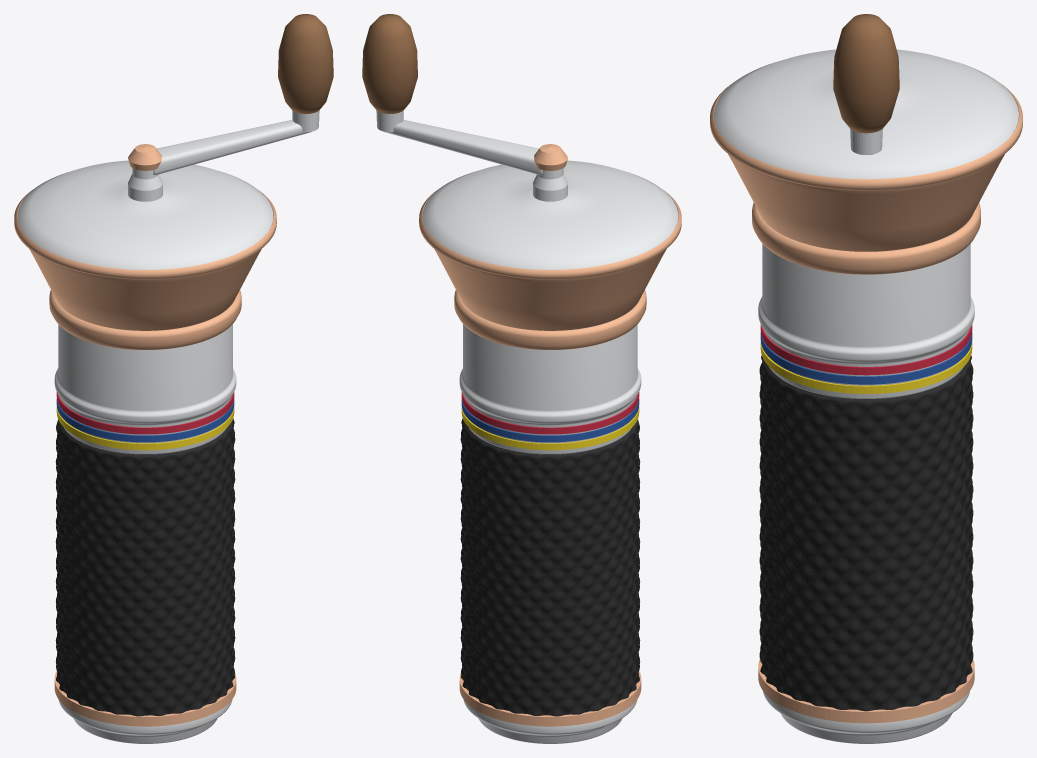
Rendered from grinder.glb.
3 views of the same model, side by side, from view 1: azimuth 30°, elevation 25°; view 2: azimuth 150°, elevation 25°; view 3: azimuth 270°, elevation 25° (orthographic). The views are drawn at different scales.
Parts seen in each view (by area): view 1: grip, lid, housing, hopper, knob, collar, arm, lid_ring, outlet, bottom_ring, band2, band1 (+3 smaller); view 2: grip, lid, housing, hopper, knob, collar, arm, lid_ring, outlet, bottom_ring, band2, band1 (+3 smaller); view 3: grip, lid, housing, hopper, knob, collar, lid_ring, outlet, bottom_ring, band2, band0, band1 (+1 smaller).
Boxes of the visible parts, x1=… form: grip: x1=55, y1=418, x2=235, y2=716; lid: x1=17, y1=160, x2=273, y2=269; housing: x1=54, y1=324, x2=236, y2=454; hopper: x1=29, y1=249, x2=261, y2=330; knob: x1=278, y1=14, x2=333, y2=113; collar: x1=49, y1=290, x2=241, y2=349; arm: x1=153, y1=119, x2=311, y2=175; lid_ring: x1=14, y1=190, x2=276, y2=279; outlet: x1=58, y1=700, x2=232, y2=743; bottom_ring: x1=54, y1=671, x2=236, y2=726; band2: x1=56, y1=392, x2=234, y2=434; band1: x1=56, y1=398, x2=234, y2=442; grip: x1=460, y1=419, x2=640, y2=716; lid: x1=422, y1=160, x2=678, y2=269; housing: x1=459, y1=324, x2=641, y2=454; hopper: x1=434, y1=249, x2=666, y2=330; knob: x1=362, y1=14, x2=417, y2=113; collar: x1=454, y1=290, x2=646, y2=349; arm: x1=384, y1=119, x2=542, y2=175; lid_ring: x1=419, y1=190, x2=681, y2=279; outlet: x1=463, y1=700, x2=637, y2=743; bottom_ring: x1=459, y1=671, x2=641, y2=726; band2: x1=461, y1=392, x2=639, y2=434; band1: x1=461, y1=398, x2=639, y2=442; grip: x1=759, y1=355, x2=973, y2=711; lid: x1=714, y1=49, x2=1018, y2=179; housing: x1=758, y1=244, x2=974, y2=398; hopper: x1=728, y1=154, x2=1004, y2=251; knob: x1=833, y1=14, x2=899, y2=133; collar: x1=752, y1=203, x2=980, y2=274; lid_ring: x1=710, y1=84, x2=1022, y2=190; outlet: x1=763, y1=691, x2=969, y2=743; bottom_ring: x1=758, y1=659, x2=974, y2=723; band2: x1=760, y1=324, x2=972, y2=375; band0: x1=760, y1=341, x2=972, y2=393; band1: x1=760, y1=332, x2=972, y2=384.
Size of the model in its own units: 1.97 by 4.16 by 1.5.
